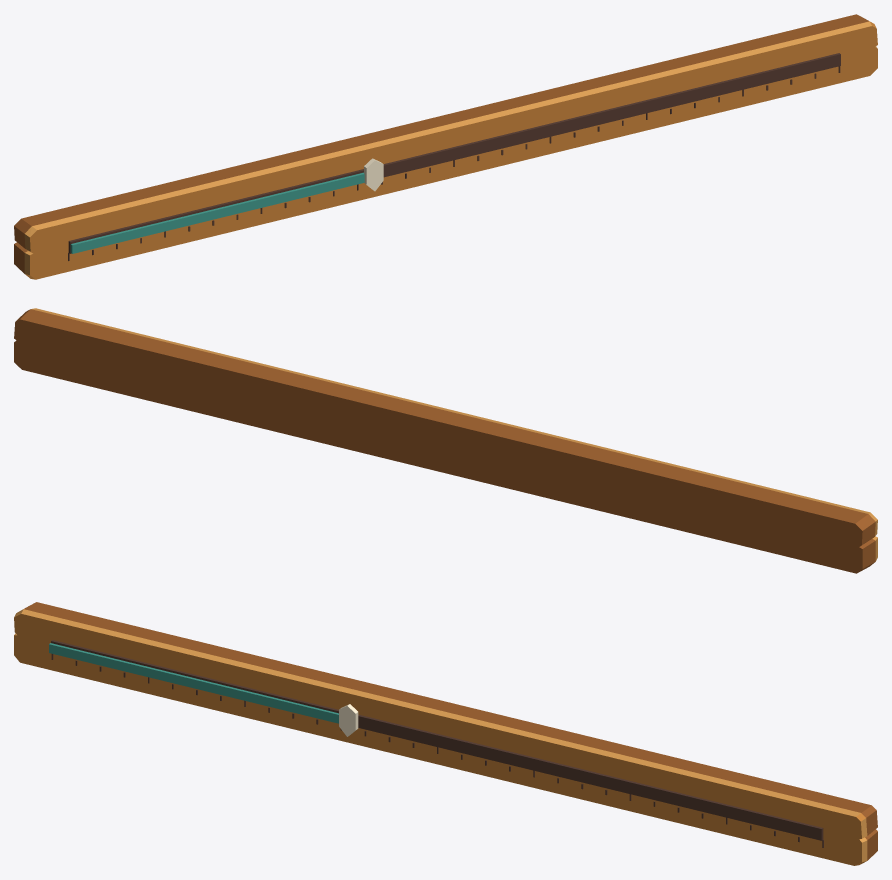
The model's file is SongProgress.fbx.
3 views of the same model, one above another, from view 1: azimuth 30°, elevation 25°; view 2: azimuth 150°, elevation 25°; view 3: azimuth 330°, elevation 25° (orthographic).
Parts seen in each view (by area): view 1: Stone.014, Rail, ProgressFill; view 2: Stone.014; view 3: Stone.014, Rail, ProgressFill.
Boxes of the visible parts, x1,y1,x2,y2 form: Stone.014: [14, 14, 877, 279]; Rail: [68, 53, 840, 253]; ProgressFill: [70, 172, 364, 253]; Stone.014: [14, 308, 877, 573]; Stone.014: [14, 602, 877, 865]; Rail: [51, 640, 823, 840]; ProgressFill: [49, 643, 338, 723].
Bounding box in the file's own units: 0.91 × 0.054 × 0.04.
